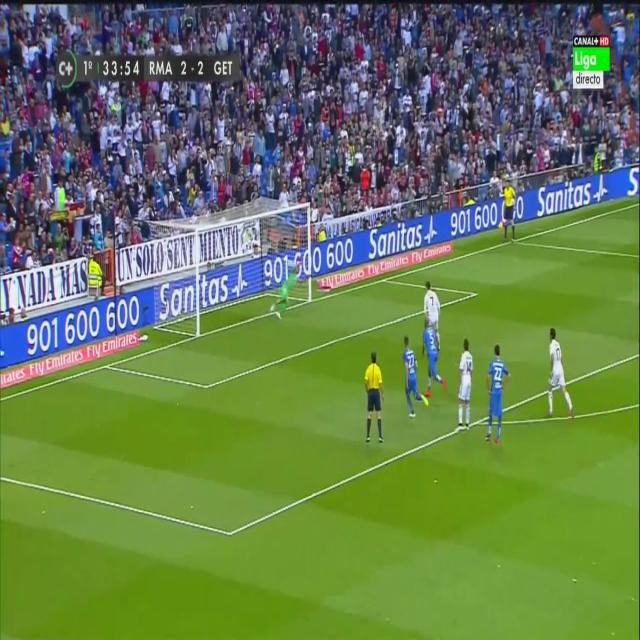Goalkeeper: (268, 256, 305, 321)
Player: (483, 342, 514, 446), (544, 325, 577, 419), (400, 335, 429, 421), (454, 337, 476, 436), (422, 317, 446, 398), (423, 280, 443, 348)
Referee: (362, 352, 387, 446), (498, 177, 520, 246)
